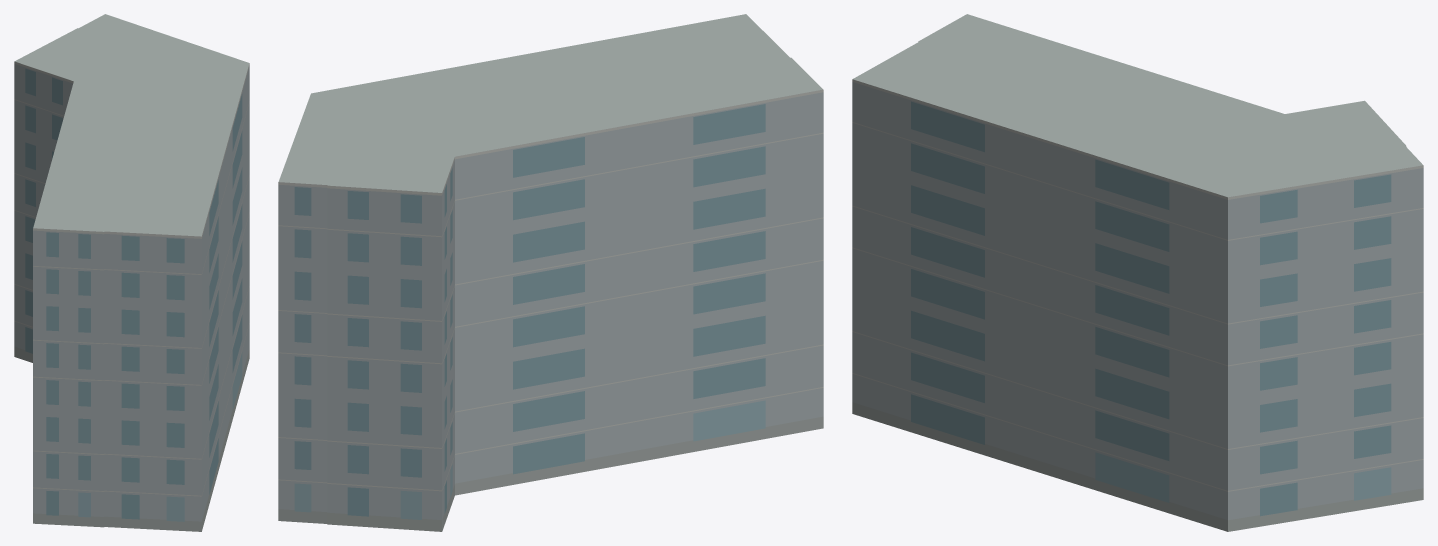
Rendered from survey-upis-32900280.glb.
3 views of the same model, side by side, from view 1: azimuth 30°, elevation 25°; view 2: azimuth 150°, elevation 25°; view 3: azimuth 270°, elevation 25° (orthographic). The views are drawn at different scales.
Visible parts, largest first — view 1: survey-upis-32900280.tmp; view 2: survey-upis-32900280.tmp; view 3: survey-upis-32900280.tmp.
Boxes of the visible parts, <box> form: survey-upis-32900280.tmp: <box>14,14,249,531</box>; survey-upis-32900280.tmp: <box>278,14,823,531</box>; survey-upis-32900280.tmp: <box>852,14,1423,531</box>.
Size of the model in its own units: 35.97 by 30.6 by 47.36.
